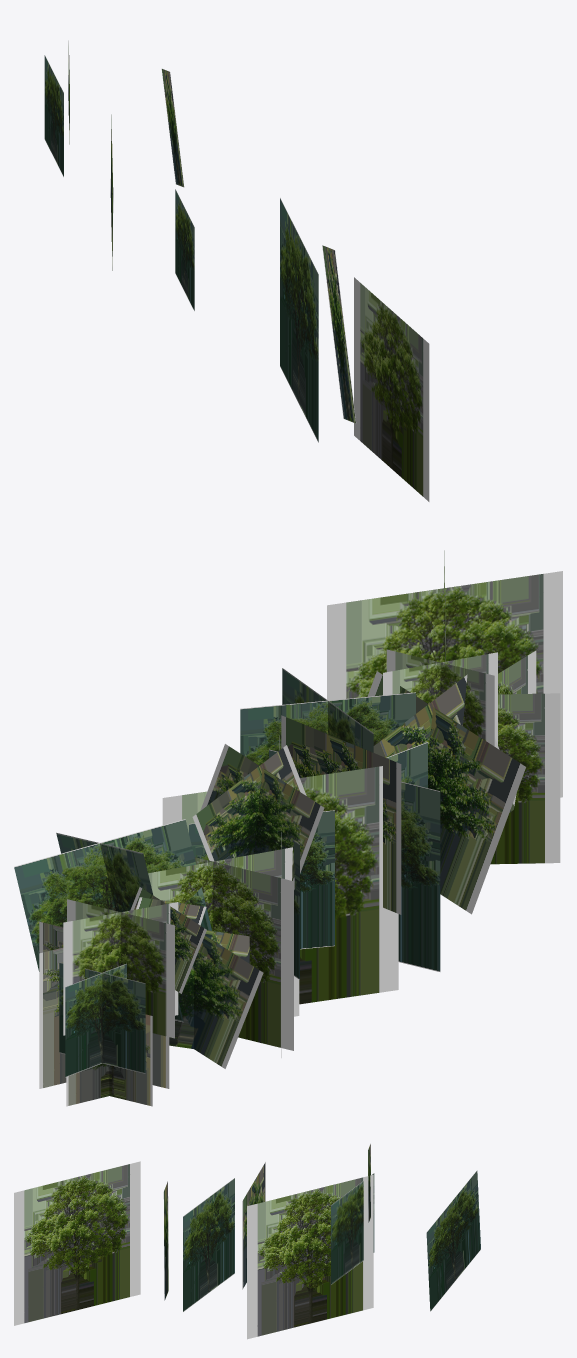
Rendered from AMB_TREES_D4.glb.
3 renders of one model, top to bottom at view 1: azimuth 30°, elevation 25°; view 2: azimuth 150°, elevation 25°; view 3: azimuth 270°, elevation 25°, orthographic. The views are drawn at different scales.
Parts seen in each view (by area): view 1: obj17, obj14, obj8, obj16, obj1; view 2: obj1, obj8, obj16, obj12, obj19, obj2, obj17, obj14; view 3: obj12, obj19, obj16, obj2, obj14.
Boxes of the visible parts, x1,y1,x2,y2 form: obj17: (354, 277, 429, 501); obj14: (280, 198, 318, 442); obj8: (161, 69, 194, 310); obj16: (322, 245, 356, 423); obj1: (44, 40, 69, 176); obj1: (39, 887, 206, 1106); obj8: (148, 744, 324, 1050); obj16: (240, 668, 525, 914); obj12: (162, 735, 398, 1057); obj19: (327, 550, 562, 797); obj2: (14, 819, 263, 1068); obj17: (383, 649, 560, 864); obj14: (269, 715, 440, 971); obj12: (247, 1173, 374, 1339); obj19: (14, 1161, 140, 1325); obj16: (163, 1178, 234, 1311); obj2: (426, 1170, 480, 1311); obj14: (242, 1162, 265, 1289).
Bounding box in the file's own units: 34.73 × 39.72 × 112.
Materials: 17 (17 with a texture image).
